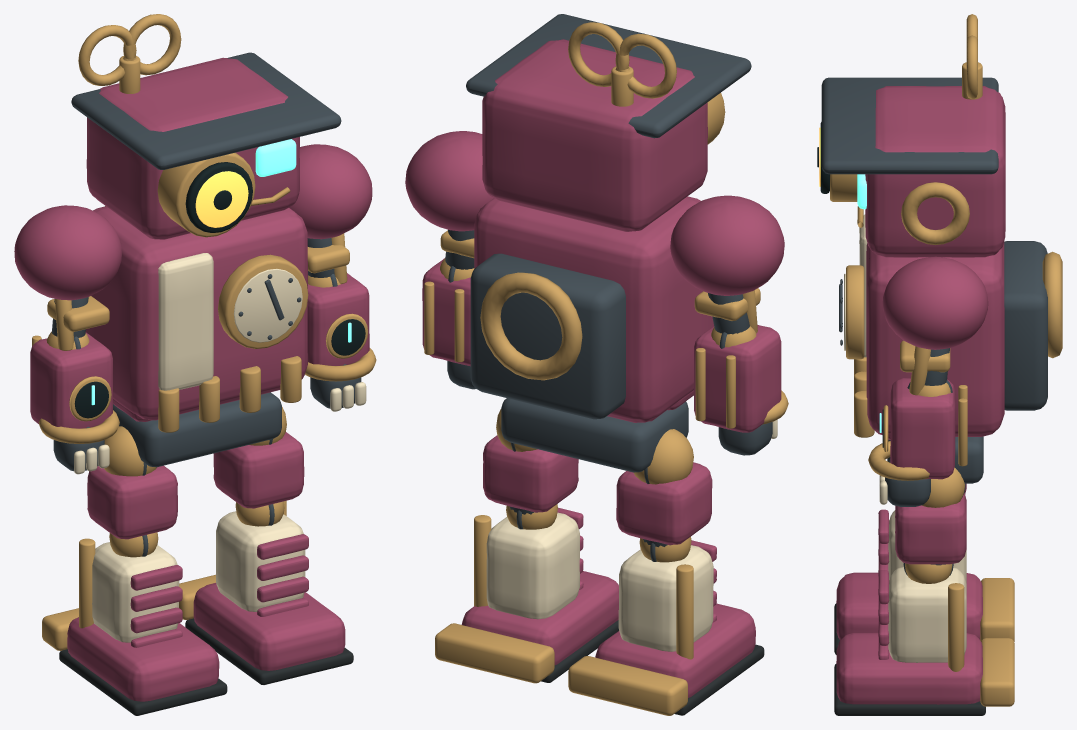
The model's file is clockwork_gunner.t3.glb.
The picture shows the model from 3 angles, left to right: view 1: azimuth 30°, elevation 25°; view 2: azimuth 150°, elevation 25°; view 3: azimuth 270°, elevation 25°; orthographic projection. The views are drawn at different scales.
Parts seen in each view (by area): view 1: slot_torso__clay_clockwork_wine__clay, slot_legL__clay_clockwork_wine__clay, slot_head__clay_clockwork_wine__clay, slot_legR__clay_clockwork_wine__clay, slot_head__forged_bluelead_steel__protected, slot_armL__clay_clockwork_wine__clay, slot_torso__clay_warm_ivory__clay, slot_torso__forged_bluelead_steel__protected, slot_head__worn_warm_brass__protected, slot_torso__worn_warm_brass__protected, slot_armR__clay_clockwork_wine__clay, armL_elbow__clay_clockwork_wine__clay (+21 smaller); view 2: slot_head__clay_clockwork_wine__clay, slot_torso__forged_bluelead_steel__protected, slot_torso__clay_clockwork_wine__clay, slot_legL__clay_clockwork_wine__clay, slot_legR__clay_clockwork_wine__clay, slot_legL__worn_warm_brass__protected, slot_armL__clay_clockwork_wine__clay, slot_legR__clay_warm_ivory__clay, slot_head__forged_bluelead_steel__protected, slot_legR__worn_warm_brass__protected, slot_legL__clay_warm_ivory__clay, slot_armR__clay_clockwork_wine__clay (+13 smaller); view 3: slot_head__clay_clockwork_wine__clay, slot_legR__clay_clockwork_wine__clay, slot_torso__clay_clockwork_wine__clay, slot_head__forged_bluelead_steel__protected, slot_torso__forged_bluelead_steel__protected, slot_armR__clay_clockwork_wine__clay, slot_legR__worn_warm_brass__protected, slot_legR__clay_warm_ivory__clay, armR_elbow__clay_clockwork_wine__clay, slot_head__worn_warm_brass__protected, slot_torso__worn_warm_brass__protected, slot_legL__clay_clockwork_wine__clay (+8 smaller).
Part boxes in pixels (x1,y1,x2,y2): slot_torso__clay_clockwork_wine__clay: (85,206,307,421); slot_legL__clay_clockwork_wine__clay: (67,465,219,701); slot_head__clay_clockwork_wine__clay: (86,57,299,239); slot_legR__clay_clockwork_wine__clay: (193,432,345,670); slot_head__forged_bluelead_steel__protected: (71,52,341,169); slot_armL__clay_clockwork_wine__clay: (14,205,121,300); slot_torso__clay_warm_ivory__clay: (158,253,213,390); slot_torso__forged_bluelead_steel__protected: (113,274,301,467); slot_head__worn_warm_brass__protected: (78,14,290,237); slot_torso__worn_warm_brass__protected: (105,206,308,432); slot_armR__clay_clockwork_wine__clay: (289,144,372,239); armL_elbow__clay_clockwork_wine__clay: (30,332,112,428); slot_head__clay_clockwork_wine__clay: (482,39,707,231); slot_torso__forged_bluelead_steel__protected: (470,253,688,472); slot_torso__clay_clockwork_wine__clay: (474,196,713,422); slot_legL__clay_clockwork_wine__clay: (595,462,755,697); slot_legR__clay_clockwork_wine__clay: (461,435,618,665); slot_legL__worn_warm_brass__protected: (568,429,693,715); slot_armL__clay_clockwork_wine__clay: (670,195,784,295); slot_legR__clay_warm_ivory__clay: (486,512,579,619); slot_head__forged_bluelead_steel__protected: (466,14,751,138); slot_legR__worn_warm_brass__protected: (435,409,557,683); slot_legL__clay_warm_ivory__clay: (618,545,713,651); slot_armR__clay_clockwork_wine__clay: (405,131,493,231); slot_head__clay_clockwork_wine__clay: (865,86,1005,257); slot_legR__clay_clockwork_wine__clay: (836,493,982,704); slot_torso__clay_clockwork_wine__clay: (866,242,1004,439); slot_head__forged_bluelead_steel__protected: (821,77,998,174); slot_torso__forged_bluelead_steel__protected: (839,241,1047,483); slot_armR__clay_clockwork_wine__clay: (882,256,988,349); slot_legR__worn_warm_brass__protected: (905,467,1014,706); slot_legR__clay_warm_ivory__clay: (888,566,966,662); armR_elbow__clay_clockwork_wine__clay: (890,378,955,479); slot_head__worn_warm_brass__protected: (830,14,982,244); slot_torso__worn_warm_brass__protected: (846,251,1062,437); slot_legL__clay_clockwork_wine__clay: (836,483,982,640).
Bounding box in the file's own units: 1.69 × 2.96 × 1.07.
